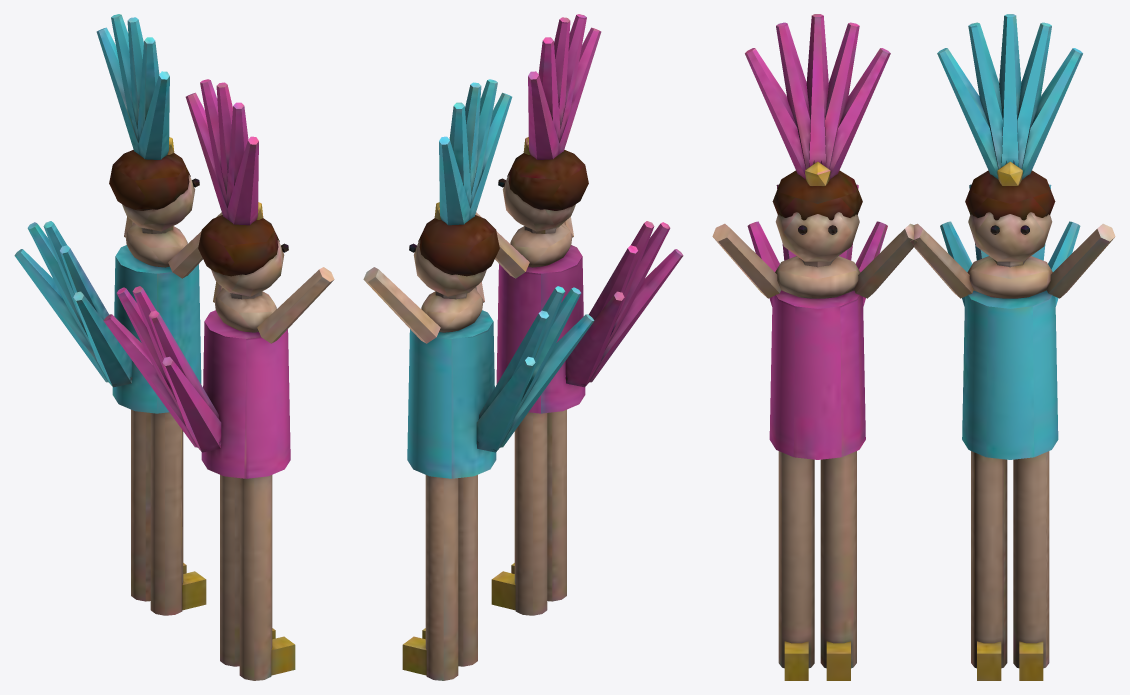
The model's file is bailarinas.glb.
3 renders of one model, left to right at view 1: azimuth 30°, elevation 25°; view 2: azimuth 150°, elevation 25°; view 3: azimuth 270°, elevation 25°, orthographic. The views are drawn at different scales.
Visible parts, largest first — view 1: bailarinas; view 2: bailarinas; view 3: bailarinas.
Part boxes in pixels (left/top/right/bottom): bailarinas: left=14, top=14, right=334, bottom=680; bailarinas: left=363, top=14, right=683, bottom=680; bailarinas: left=712, top=14, right=1115, bottom=680.
Size of the model in its own units: 0.6452 by 2.33 by 1.34.
Materials: 1 (1 with a texture image).
